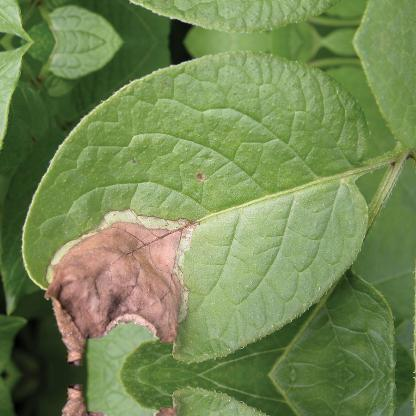Late-Blight: (20, 52, 396, 366)
